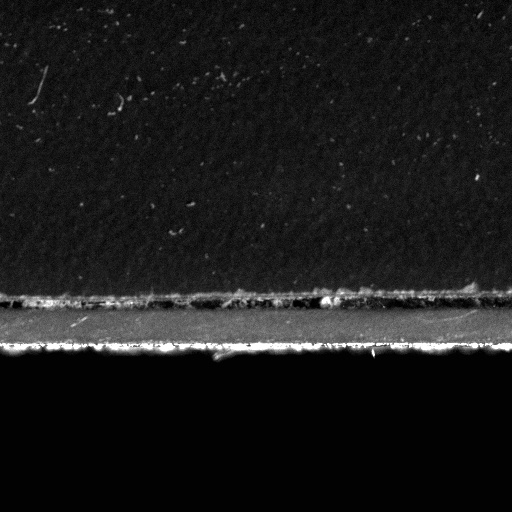jiaofeng: (343, 293, 511, 316), (146, 291, 224, 318), (243, 293, 323, 313)
